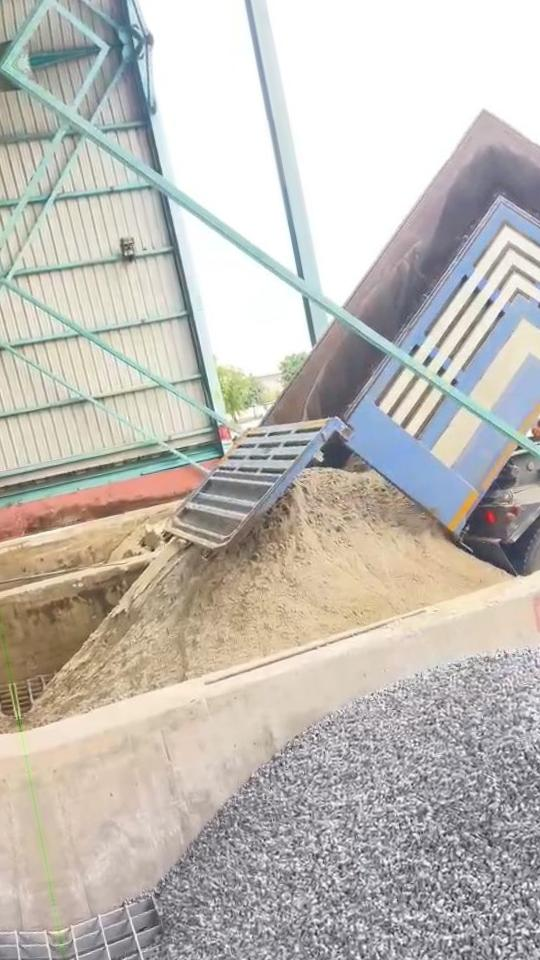gravel: (146, 649, 540, 960)
sand: (27, 469, 508, 723), (109, 519, 173, 561)
